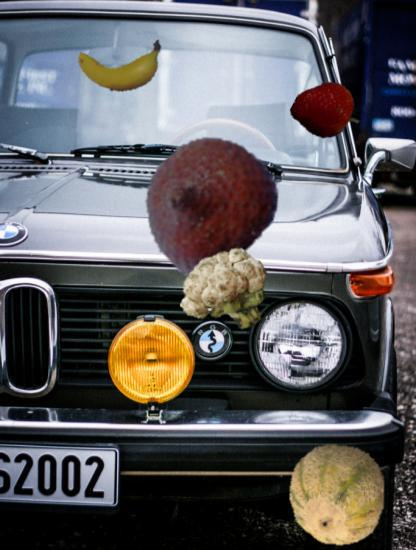Banana: (78, 21, 159, 102)
Cantaloupe: (285, 443, 389, 547)
Cauliflower: (178, 244, 272, 338)
Salak: (139, 133, 279, 273)
Strawberry: (294, 77, 362, 145)
